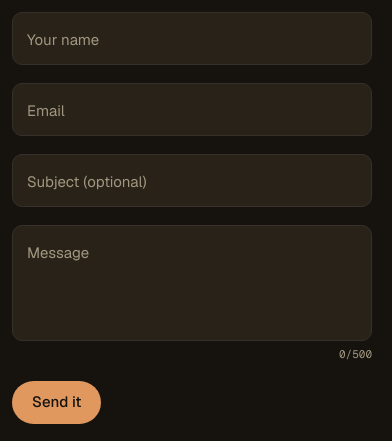
Test case: FloatingLabelForm — sending › custom successTitle / successText / text overrides
The image size is (392, 441).
Type "  Ada  " into the field labelled "Your name".
click(192, 38); type("  Ada  ")  # box [12,12,372,65]
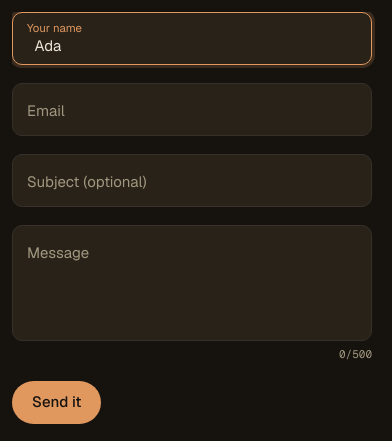
Type "ada@example.com" into the field labelled "Email".
click(192, 110); type("ada@example.com")  # box [12,83,372,136]
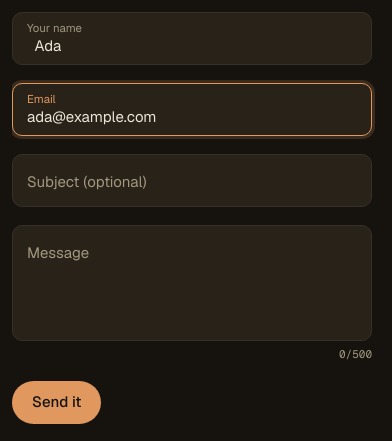
Type "Hello there, lovely radio!" into the text box labelled "Message".
click(192, 283); type("Hello there, lovely radio!")  # box [12,225,372,341]
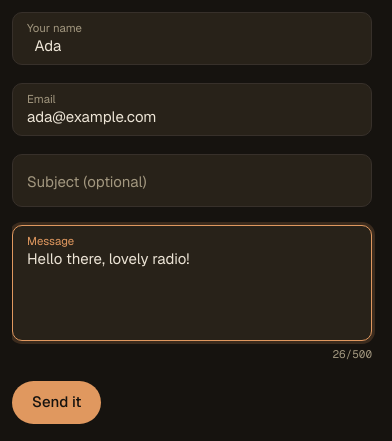
Click the button "Send it".
click(57, 402)  # box [12,381,101,424]
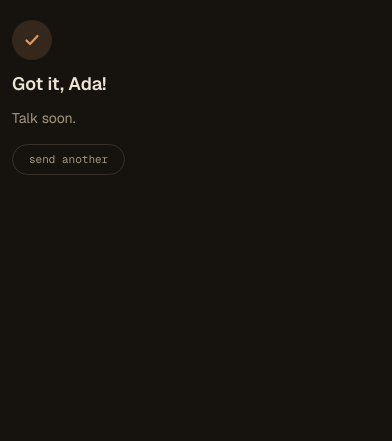
Now the heading "Got it, Ada!" is shown, box [12,70,106,98]
Now the text "Talk soon." is shown, box [12,108,76,128]
